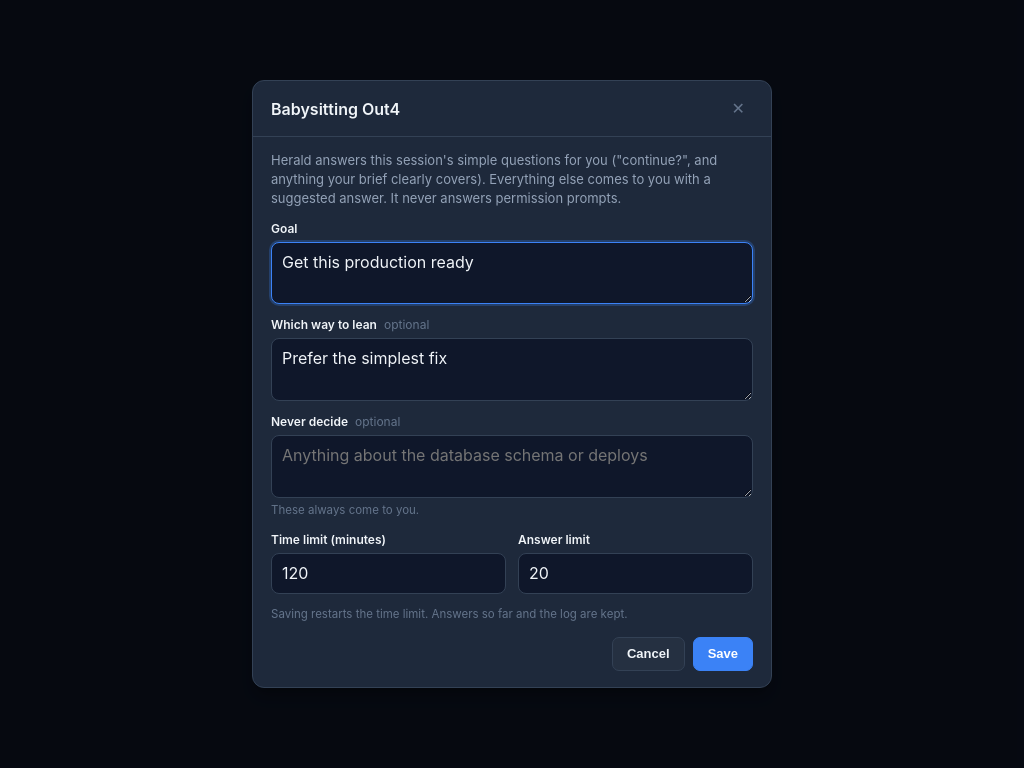
BabysitBriefDialog › editing is prefilled, a cleared field is dropped, and a hub error stays on screen
This screenshot has width=1024, height=768.
Check: the dialog "Babysitting Out4" is shown, box [252, 80, 772, 688]
Check: the text box labelled "Goal" holds "Get this production ready", box [271, 242, 753, 304]
Step 1. Clear the text box labelled "Which way to lean optional" → [512, 370], box [271, 338, 753, 401]
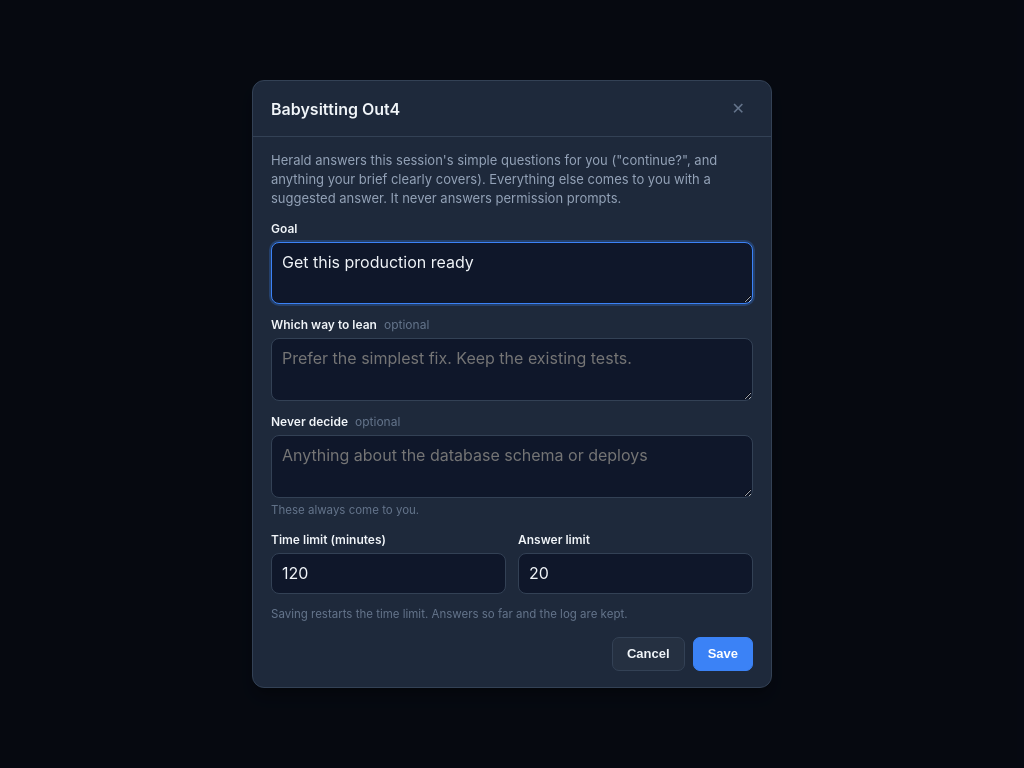
Step 2. Replace the text in the number field labelled "Answer limit" with "8" → [636, 573], box [518, 553, 753, 594]
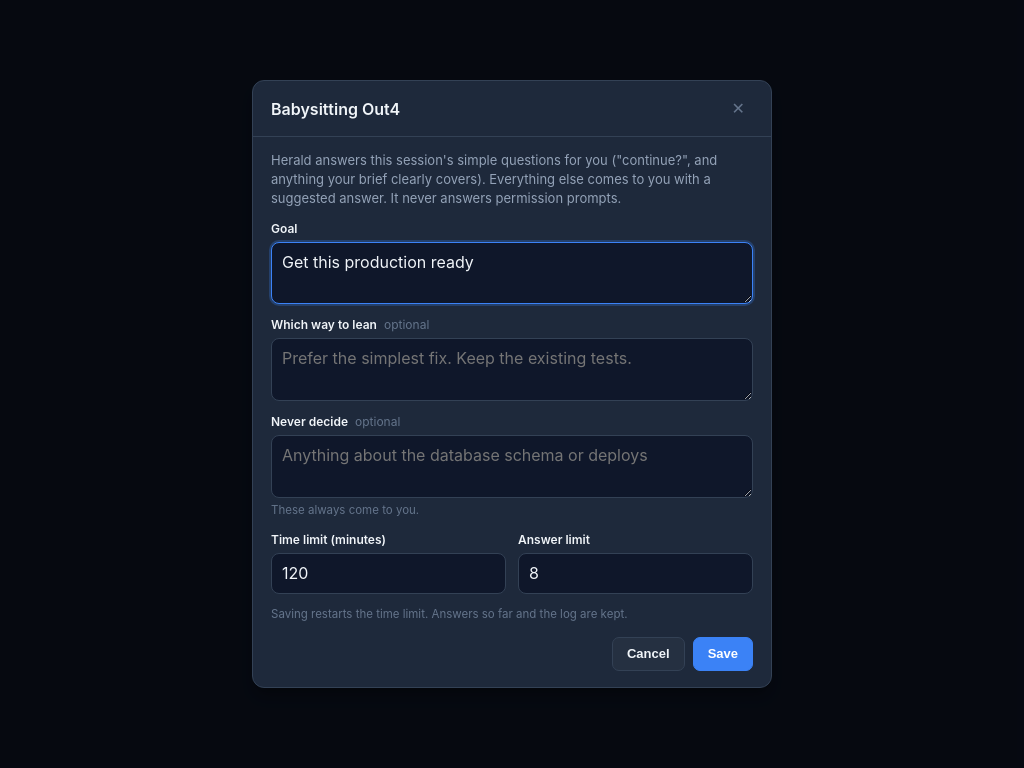
Step 3. Click the button "Save" → [723, 654], box [693, 637, 753, 671]
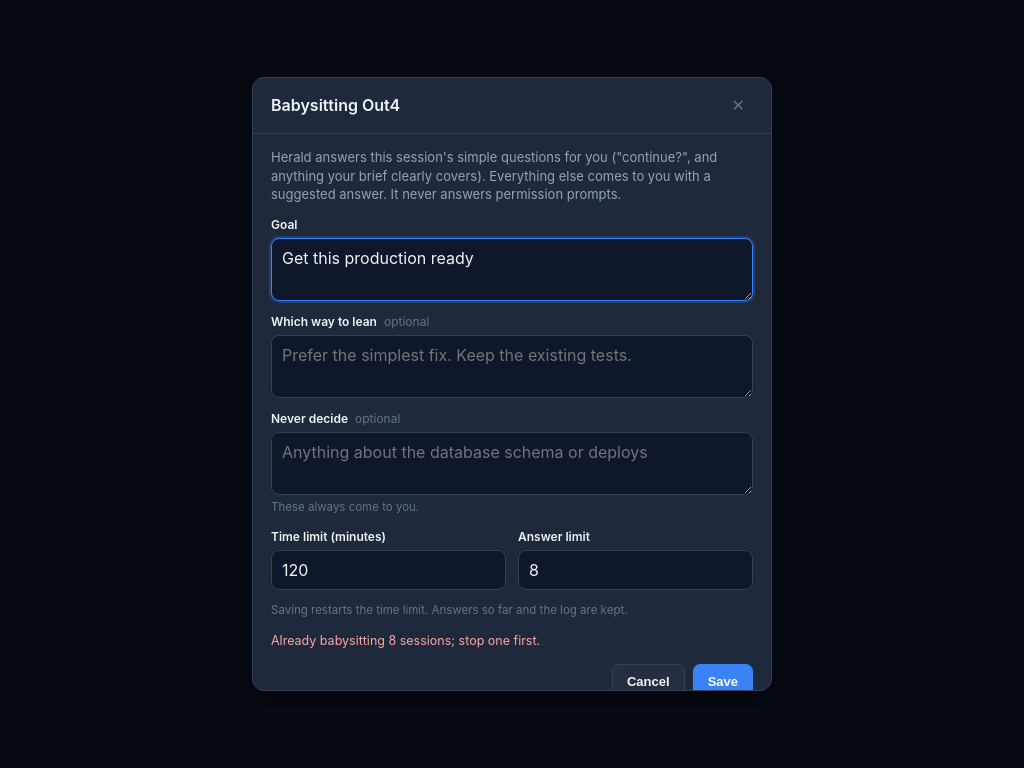
Check: the message shows "Already babysitting 8", box [271, 633, 540, 648]
